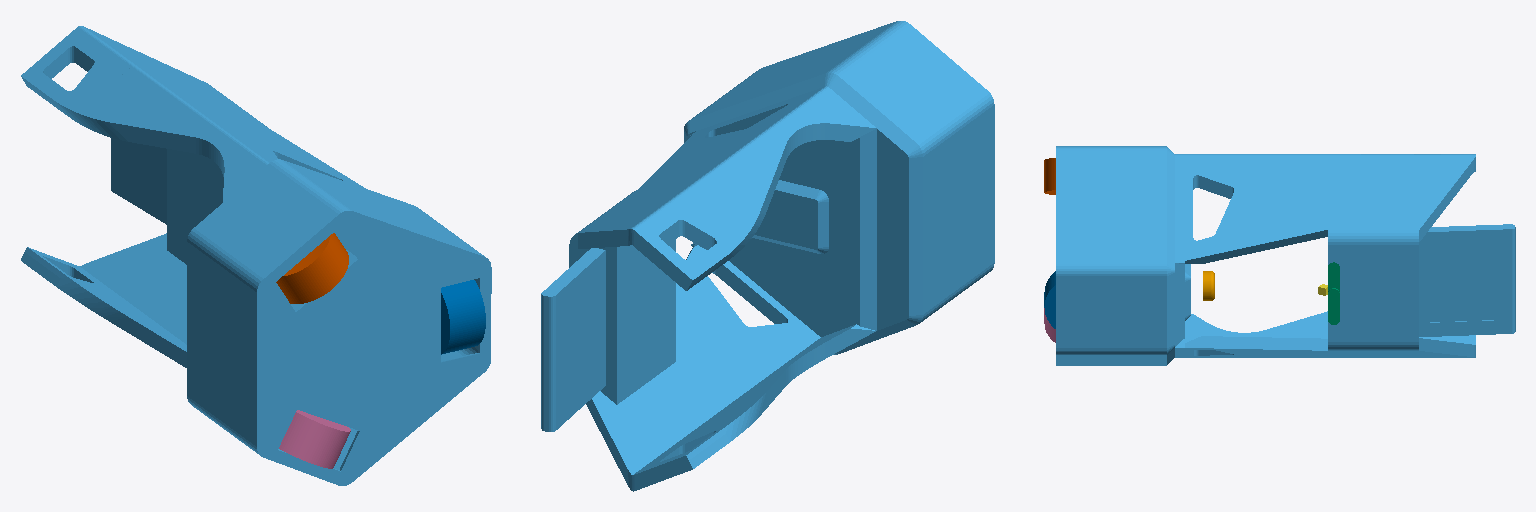
The robot description file, URDF, robot "CAD_ASR_WITH_OMNI":
<?xml version='1.0' encoding='utf-8'?>
<robot name="CAD_ASR_WITH_OMNI">
    <link name="laser">
        <inertial>
            <origin xyz="-4.6247581764191635e-09 -1.1616247874712826e-09 0.014527098160946678" rpy="0.0 -1.458519205748705e-62 0.0" />
            <mass value="0.2" /> <inertia ixx="0.0004140062601385164" iyy="0.0004140062601384331" izz="0.0006847234020839615" ixy="-6.938893903907228e-18" iyz="1.3877787807814457e-17" ixz="1.3876531290263338e-17" />
        </inertial>
        <visual name="laser_visual">
            <origin xyz="-4.624758425109121e-09 -0.14650000116162346 -0.3329999965022064" rpy="1.570796326794897 1.1102230246251575e-16 -5.551115123125783e-16" />
            <geometry>
                <mesh filename="package://CAD_ASR_WITH_OMNI_LENGKAP/meshes/laser.stl" scale="0.001 0.001 0.001" />
            </geometry>
        </visual>
        <collision name="laser_collision">
            <origin xyz="-4.624758425109121e-09 -0.14650000116162346 -0.3329999965022064" rpy="1.570796326794897 1.1102230246251575e-16 -5.551115123125783e-16" />
            <geometry>
                <mesh filename="package://CAD_ASR_WITH_OMNI_LENGKAP/meshes/laser.stl" scale="0.001 0.001 0.001" />
            </geometry>
        </collision>
    </link>
    <link name="base_link">
        <inertial>
            <origin xyz="0.0 0.0 0.0" rpy="0.0 0.0 0.0" />
            <mass value="5.0" /> 
            <inertia
                ixx="2.0"
                iyy="2.0"
                izz="0.5"
                ixy="0"
                iyz="0"
                ixz="0"/>
        </inertial>
        <visual name="base_link_visual">
            <origin xyz="0.0 0.0 0.0" rpy="0.0 -1.57 0.0" />
            <geometry>
                <mesh filename="package://CAD_ASR_WITH_OMNI_LENGKAP/meshes/base_link.stl" scale="0.001 0.001 0.001" />
            </geometry>
        </visual>
        <!-- <collision name="base_link_collision">
            <origin xyz="0.0 0.0 0.0" rpy="0.0 -1.57 0.0" />
            <geometry>
                <mesh filename="package://CAD_ASR_WITH_OMNI_LENGKAP/meshes/base_link.stl" scale="0.001 0.001 0.001" />
            </geometry>
        </collision> -->
        <collision name="deck_collision">
            <origin xyz="0.0 0.0 0.05" rpy="0.0 0.0 0.0" /> 
            <geometry>
                <box size="0.3 0.3 0.1" /> 
            </geometry>
        </collision>
    </link>
    <link name="camera_link">
        <inertial>
            <origin xyz="-0.010434524357948512 0.014999996502205876 3.0560040187310734e-09" rpy="0.0 -0.0 0.0" />
            <mass value="0.1" /> <inertia ixx="0.0017847772333308143" iyy="0.0017574405415030497" izz="8.717941511160454e-05" ixy="1.8041124150158794e-15" iyz="-1.249000902703301e-16" ixz="3.469446951953614e-17" />
        </inertial>
        <visual name="camera_link_visual">
            <origin xyz="0.17144619116162588 0.6989999965022059 1.9155375241695083e-05" rpy="-3.141592653589793 0 0" />
            <geometry>
                <mesh filename="package://CAD_ASR_WITH_OMNI_LENGKAP/meshes/camera_link.stl" scale="0.001 0.001 0.001" />
            </geometry>
        </visual>
        <collision name="camera_link_collision">
            <origin xyz="0.17144619116162588 0.6989999965022059 1.9155375241695083e-05" rpy="-3.141592653589793 0 0" />
            <geometry>
                <mesh filename="package://CAD_ASR_WITH_OMNI_LENGKAP/meshes/camera_link.stl" scale="0.001 0.001 0.001" />
            </geometry>
        </collision>
    </link>
    <link name="thermal_link">
        <visual>
            <geometry>
                <box size="0.02 0.02 0.02"/>
            </geometry>
            <material name="black"/>
        </visual>
        <collision>
            <geometry>
                <box size="0.02 0.02 0.02"/>
            </geometry>
        </collision>
        <inertial>
            <mass value="0.1"/>
            <origin xyz="0 0 0"/>
            <inertia
                ixx="0.001" ixy="0" ixz="0"
                iyy="0.001" iyz="0"
                izz="0.001"/>
        </inertial>
    </link>
    <link name="wheel_front">
        <inertial>
            <origin xyz="1.9319752553315086e-09 6.454976819725289e-10 -0.03999999884342433" rpy="0.0 -0.0 -4.930380657631324e-32" />
            <mass value="0.5" /> <inertia ixx="0.02676048518333767" iyy="0.026760485180221456" izz="0.04038132192177349" ixy="1.0297924025877458e-16" iyz="1.2279908235808786e-15" ixz="9.610368056911511e-16" />
        </inertial>
        <visual name="wheel_front_visual">
            <origin xyz="-0.5602084721407106 0.8835905591682974 1.156575786254166e-09" rpy="3.141592653589793 3.885780586188047e-16 1.808329325355686e-16" />
            <geometry>
                <mesh filename="package://CAD_ASR_WITH_OMNI_LENGKAP/meshes/wheel_front.stl" scale="0.001 0.001 0.001" />
            </geometry>
        </visual>
        <collision name="wheel_front_collision">
            <origin xyz="0.0 0.0 0.0" rpy="1.57 0 0" />
            <geometry>
                <cylinder radius="0.04" length="0.05" />
            </geometry>
        </collision>
    </link>
    <link name="wheel_back_right">
        <inertial>
            <origin xyz="3.126750804938183e-09 -3.497794889284478e-09 -0.04000000423729901" rpy="0.0 -0.0 -1.5800624728944305e-62" />
            <mass value="0.5" /> <inertia ixx="0.02676048518333296" iyy="0.02676048518022367" izz="0.04038132192177046" ixy="-5.551115123125782e-17" iyz="-1.1007716705219527e-16" ixz="8.92967868645209e-17" />
        </inertial>
        <visual name="wheel_back_right_visual">
            <origin xyz="0.1899002699999999 0.1514542900000001 -0.30652545999999997" rpy="-3.141592653589793 -9.069329651181517e-32 1.1405732311823947e-16" />
            <geometry>
                <mesh filename="package://CAD_ASR_WITH_OMNI_LENGKAP/meshes/wheel_back_right.stl" scale="0.001 0.001 0.001" />
            </geometry>
        </visual>
        <collision name="wheel_back_right_collision">
            <origin xyz="0.0 0.0 0.0" rpy="1.57 0 0" />
            <geometry>
                <cylinder radius="0.04" length="0.05" />
            </geometry>
        </collision>
    </link>
    <link name="wheel_back_left">
        <inertial>
            <origin xyz="2.0499163611020778e-09 -3.4977931484547753e-09 -0.039999996555126746" rpy="0.0 -0.0 0.0" />
            <mass value="0.5" /> <inertia ixx="0.026760485183236656" iyy="0.0267604851801424" izz="0.040381321921499846" ixy="9.461501631952656e-14" iyz="-5.173269434967871e-14" ixz="-2.6501370542497682e-14" />
        </inertial>
        <visual name="wheel_back_left_visual">
            <origin xyz="0.9269234568509633 0.6916827153692188 -0.07999999655512952" rpy="1.986762121502057e-15 -2.2759572004816013e-15 3.1415926535897927" />
            <geometry>
                <mesh filename="package://CAD_ASR_WITH_OMNI_LENGKAP/meshes/wheel_back_left.stl" scale="0.001 0.001 0.001" />
            </geometry>
        </visual>
        <collision name="wheel_back_left_collision">
            <origin xyz="0.0 0.0 0.0" rpy="1.57 0 0" />
            <geometry>
                <cylinder radius="0.04" length="0.05" />
            </geometry>
        </collision>
    </link>
    <joint name="base_link_wheel_back_left_to_base_link" type="continuous">
        <origin xyz="-0.070 0.054 -0.150"
          rpy="0 0.500000 0"/>
        <parent link="base_link" />
        <child link="wheel_back_left" />
        <axis xyz="-3.3524214765323634e-07 8.72902704520167e-17 1.0000000988419389" />
    </joint>
    <joint name="base_link_wheel_front_to_base_link" type="continuous">
        <origin xyz="0.270 0.054 0.000"
          rpy="0 1.570800 0"/>
        <parent link="base_link" />
        <child link="wheel_front" /> <axis xyz="-9.860761315262648e-32 6.938893903907244e-17 1.0" />
    </joint>
    <joint name="base_link_wheel_back_right_to_base_link" type="continuous">
        <origin xyz="-0.073 0.054 0.150"
          rpy="3.141593 0.541593 3.141593"/>
        <parent link="base_link" />
        <child link="wheel_back_right" /> <axis xyz="-5.349509152319243e-08 -1.548462599326932e-16 1.000000198012479" />
    </joint>
    <joint name="base_link_lidar_to_base_link" type="fixed">
        <!-- <origin xyz="0.1465 0.332 0.0" rpy="3.14159 -1.57 1.57" /> -->
        <origin xyz="0.1465 0.362 0.0" rpy="-1.57 0 0" />
        <parent link="base_link" />
        <child link="laser" />
    </joint>
    <joint name="base_link_realsense_to_base_link" type="fixed">
        <origin xyz="-1.915537524187272e-05 0.6989999965022066 -0.1714461911616237" rpy="-3.141592653589793 -1.5707963267948961 0" />
        <parent link="base_link" />
        <child link="camera_link" />
    </joint>
    <joint name="thermal_joint" type="fixed">
        <parent link="base_link"/>
        <child link="thermal_link"/>
        <origin xyz="0.169931 0.660016 0.0" 
                rpy="0 0 -0.52"/>
    </joint>

    <gazebo>
        <plugin name="object_controller" filename="libgazebo_ros_planar_move.so">
            <commandTopic>cmd_vel</commandTopic>
            <odometryTopic>odom</odometryTopic>
            <odometryFrame>odom</odometryFrame>
            <odometryRate>20.0</odometryRate>
            <robotBaseFrame>base_link</robotBaseFrame>
        </plugin>
    </gazebo>

    <gazebo reference="laser">
        <sensor type="ray" name="head_hokuyo_sensor">
            <pose>0 0 0 0 0 0</pose>
            <visualize>true</visualize>
            <update_rate>40</update_rate>
            <ray>
                <scan>
                    <horizontal>
                        <samples>720</samples>
                        <resolution>1</resolution>
                        <min_angle>-3.14159</min_angle>
                        <max_angle>3.14159</max_angle>
                    </horizontal>
                </scan>
                <range>
                    <min>0.05</min>
                    <max>12.0</max>
                    <resolution>0.01</resolution>
                </range>
            </ray>
            <plugin name="gazebo_ros_head_hokuyo_controller" filename="libgazebo_ros_laser.so">
                <topicName>/scan</topicName>
                <frameName>laser</frameName>
            </plugin>
        </sensor>
    </gazebo>

    <gazebo reference="thermal_link">
        <sensor type="camera" name="thermal_camera">
            <always_on>true</always_on>
            <update_rate>10</update_rate>
            <visualize>true</visualize>
            <camera>
                <horizontal_fov>1.57</horizontal_fov>
                <image>
                    <width>640</width>
                    <height>480</height>
                    <format>L8</format>
                </image>
                <clip>
                    <near>0.1</near>
                    <far>100</far>
                </clip>
            </camera>
            <plugin
                name="gazebo_ros_thermal_camera"
                filename="libgazebo_ros_thermal_camera.so">
                <alwaysOn>true</alwaysOn>
                <updateRate>5.0</updateRate>
                <robotNamespace>/thermal</robotNamespace>
                <cameraName>thermal_camera</cameraName>
                <imageTopicName>image_raw</imageTopicName>
                <cameraInfoTopicName>camera_info</cameraInfoTopicName>
                <frameName>thermal_link</frameName>
            </plugin>
        </sensor>
    </gazebo>

    <gazebo reference="wheel_front">
        <mu1>1.0</mu1>
        <mu2>0.0</mu2>
        <kp>1000000.0</kp>
        <kd>100.0</kd>
        <minDepth>0.001</minDepth>
        <maxVel>1.0</maxVel>
    </gazebo>

    <gazebo reference="wheel_back_left">
        <mu1>1.0</mu1>
        <mu2>0.0</mu2>
        <kp>1000000.0</kp>
        <kd>100.0</kd>
        <minDepth>0.001</minDepth>
        <maxVel>1.0</maxVel>
    </gazebo>

    <gazebo reference="wheel_back_right">
        <mu1>1.0</mu1>
        <mu2>0.0</mu2>
        <kp>1000000.0</kp>
        <kd>100.0</kd>
        <minDepth>0.001</minDepth>
        <maxVel>1.0</maxVel>
    </gazebo>

    <gazebo reference="base_link">
        <gravity>false</gravity>
        <kinematic>true</kinematic>
        <setFrictionPyramid>false</setFrictionPyramid>
    </gazebo>
</robot>

--- Facts derived from the render (not from the file) ---
The picture shows the robot from 3 angles, left to right: view 1: azimuth 30°, elevation 25°; view 2: azimuth 150°, elevation 25°; view 3: azimuth 270°, elevation 25°; orthographic projection.
Model CAD_ASR_WITH_OMNI with 7 links and 6 joints (3 continuous, 3 fixed), rooted at base_link, posed every joint at zero.
Visible links, largest first — view 1: base_link, wheel_back_right, wheel_front, wheel_back_left; view 2: base_link; view 3: base_link, camera_link, wheel_front.
Boxes of the visible links, x1,y1,x2,y2 form: base_link: (21,26,491,485); wheel_back_right: (276,233,348,303); wheel_front: (441,280,485,354); wheel_back_left: (279,410,350,468); base_link: (541,21,994,491); base_link: (1056,146,1515,365); camera_link: (1328,262,1339,324); wheel_front: (1044,271,1055,328).
Size in the robot's own frame: 0.5252 by 1.16 by 0.5885 metres.
Meshes: 6 distinct files referenced, 6 mesh visuals loaded (6 binary STL).
